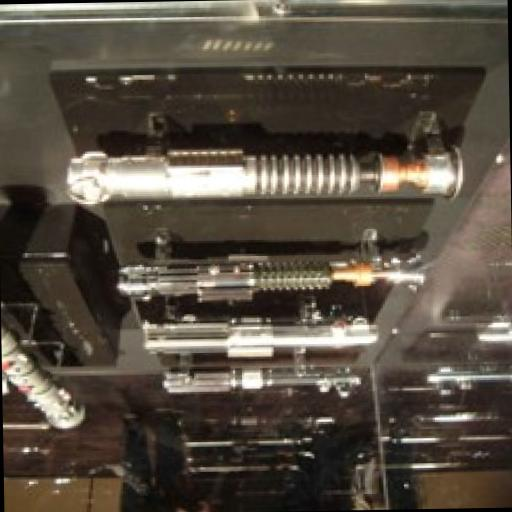lightsaber: (60, 140, 470, 212), (111, 232, 434, 306), (137, 309, 385, 362), (156, 357, 360, 404)
